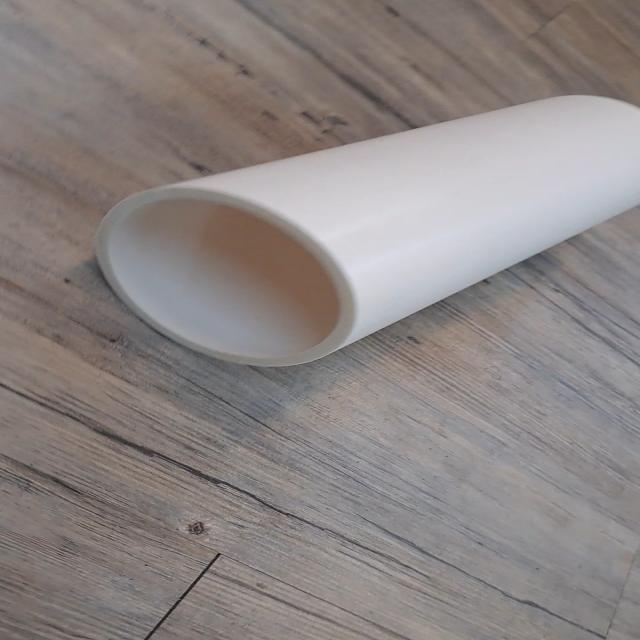CORAL: (86, 89, 640, 384)
